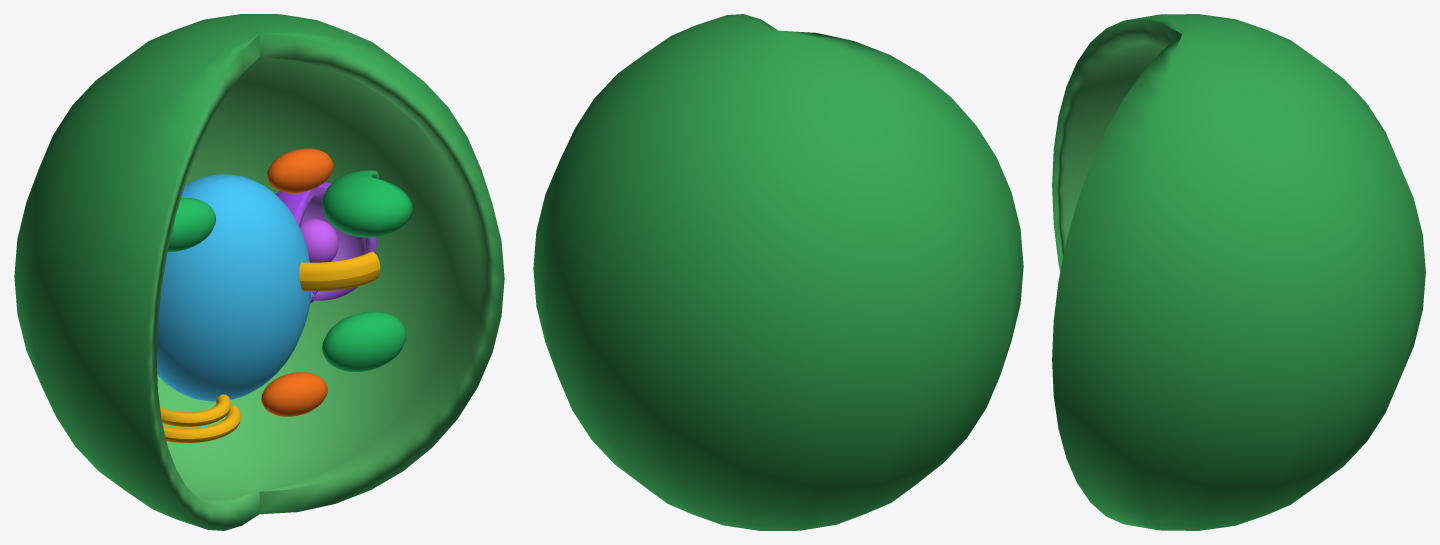
The model's file is 08_plant_cell_chloroplast.glb.
The picture shows the model from 3 angles, left to right: view 1: azimuth 30°, elevation 25°; view 2: azimuth 150°, elevation 25°; view 3: azimuth 270°, elevation 25°; orthographic projection.
Parts seen in each view (by area): view 1: Hexagonal Cellulose Cell Wall & Membrane, Large Central Vacuole & Tonoplast, Chloroplasts & Thylakoid Grana Stacks, Endoplasmic Reticulum & Golgi Dictyosomes, Plant Mitochondria (ATP Synthesis), Plant Nucleus & Nucleolus; view 2: Hexagonal Cellulose Cell Wall & Membrane; view 3: Hexagonal Cellulose Cell Wall & Membrane.
Part boxes in pixels (left/top/right/bottom): Hexagonal Cellulose Cell Wall & Membrane: left=14, top=14, right=504, bottom=530; Large Central Vacuole & Tonoplast: left=156, top=174, right=311, bottom=401; Chloroplasts & Thylakoid Grana Stacks: left=167, top=170, right=413, bottom=371; Endoplasmic Reticulum & Golgi Dictyosomes: left=160, top=252, right=380, bottom=443; Plant Mitochondria (ATP Synthesis): left=261, top=148, right=333, bottom=416; Plant Nucleus & Nucleolus: left=275, top=182, right=376, bottom=303; Hexagonal Cellulose Cell Wall & Membrane: left=533, top=14, right=1023, bottom=530; Hexagonal Cellulose Cell Wall & Membrane: left=1052, top=14, right=1425, bottom=530.
Size of the model in its own units: 293 by 320 by 227.
